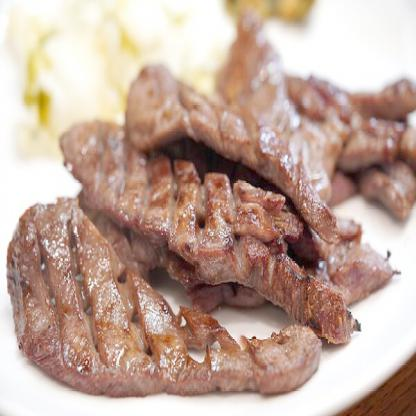Carne: (58, 114, 364, 350), (5, 190, 330, 403)
